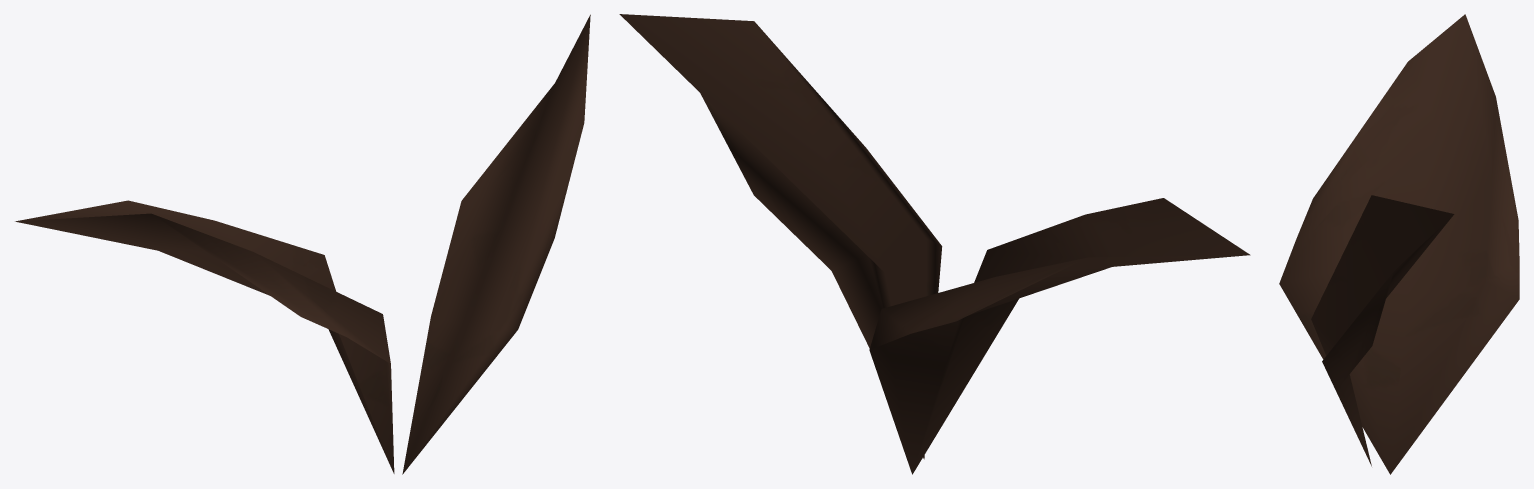
File: environment_grass_b.fbx
3 renders of one model, left to right at view 1: azimuth 30°, elevation 25°; view 2: azimuth 150°, elevation 25°; view 3: azimuth 270°, elevation 25°, orthographic. The views are drawn at different scales.
Parts seen in each view (by area): view 1: pPlane27; view 2: pPlane27; view 3: pPlane27.
Boxes of the visible parts, x1=… form: pPlane27: x1=15, y1=14, x2=590, y2=474; pPlane27: x1=619, y1=14, x2=1250, y2=474; pPlane27: x1=1279, y1=14, x2=1519, y2=474.
Size of the model in its own units: 116 by 73.71 by 43.49.
